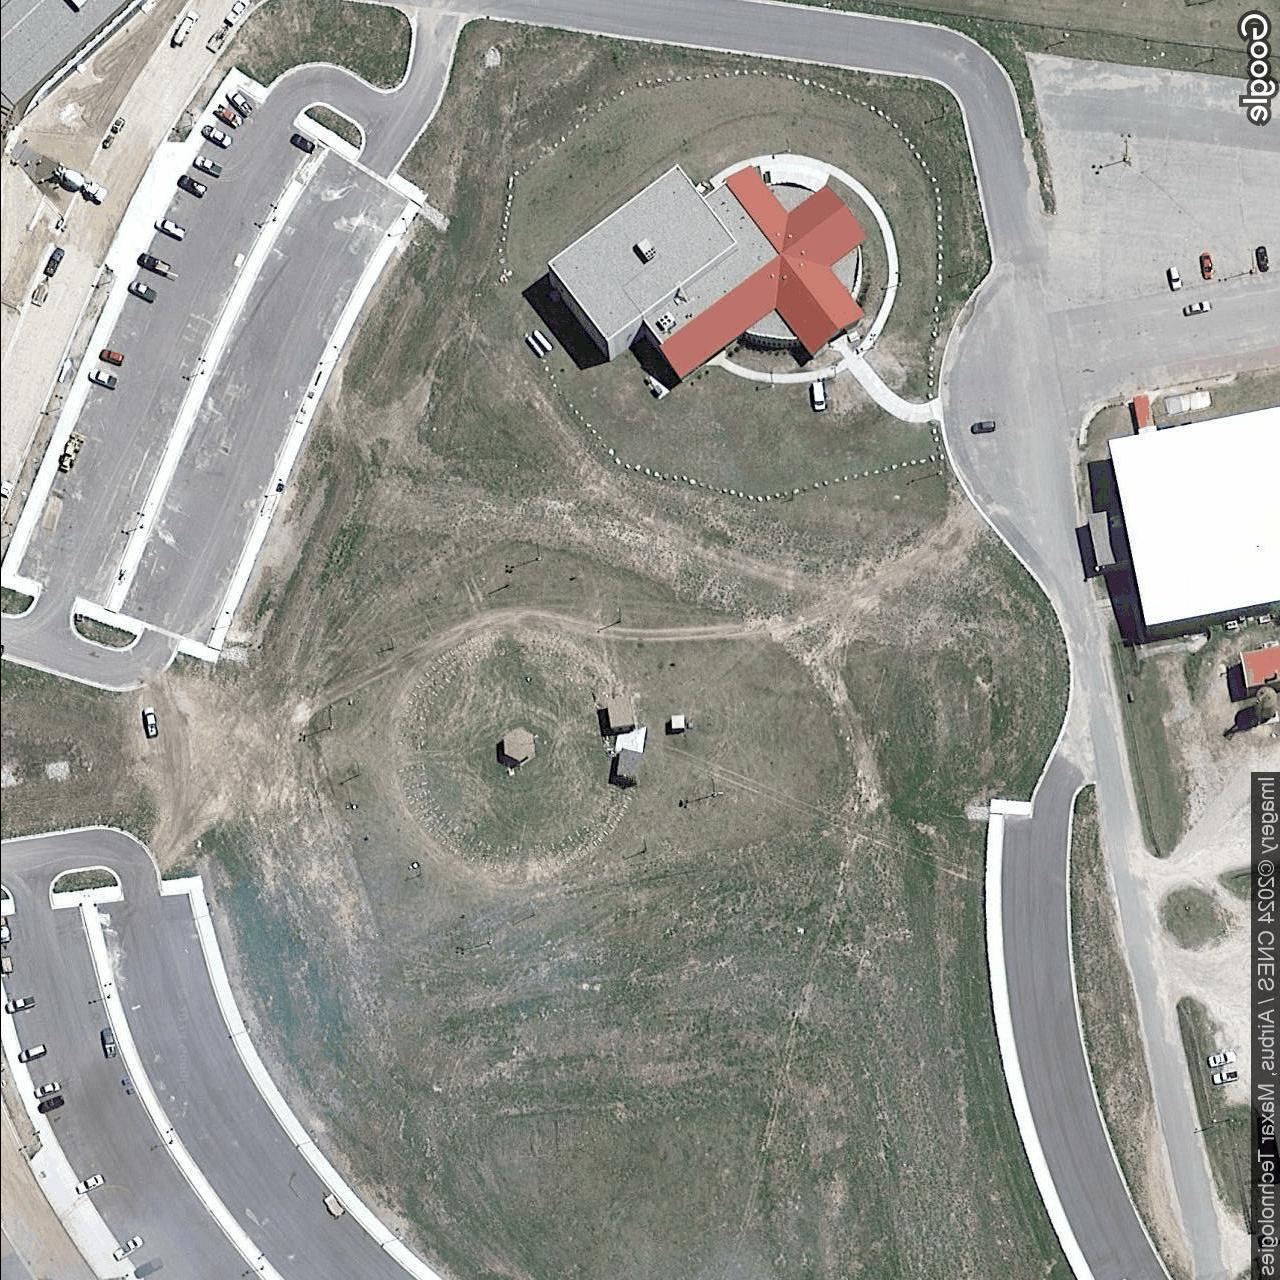House: (0, 2, 143, 148)
Other: (546, 163, 867, 383), (1107, 396, 1279, 633)
Propane: (529, 328, 552, 354), (523, 334, 544, 359)
